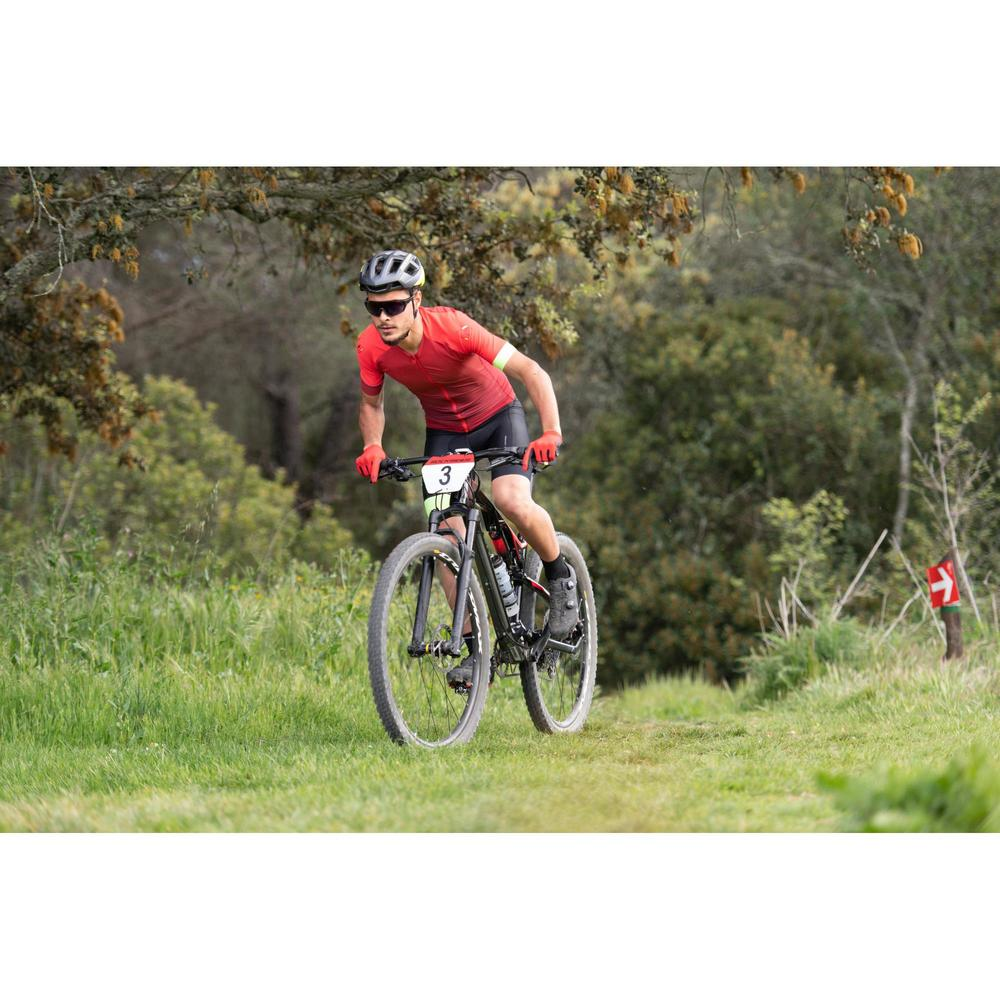MountainBike: (347, 412, 594, 758)
